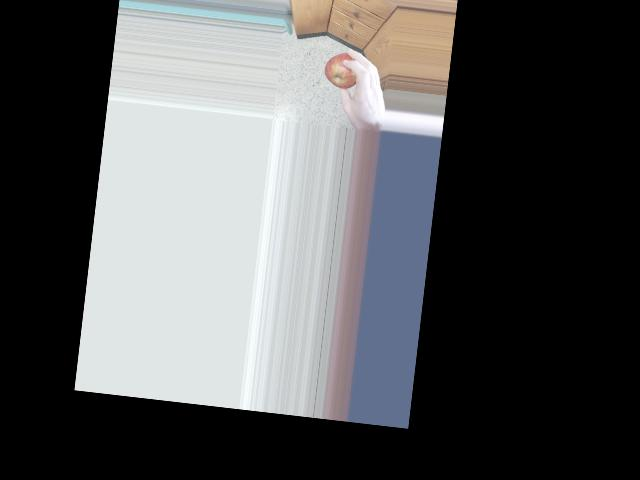apple: (321, 46, 366, 92)
